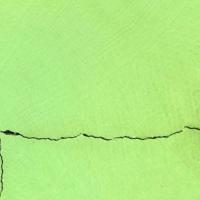crack: (0, 101, 199, 154)
